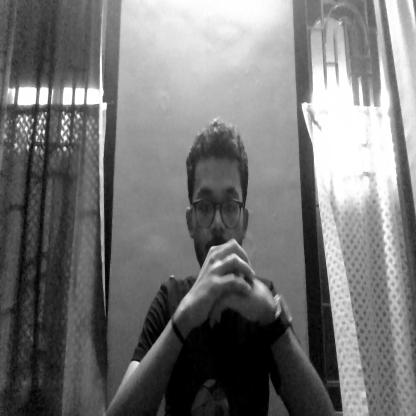Normal: (188, 112, 255, 300)
